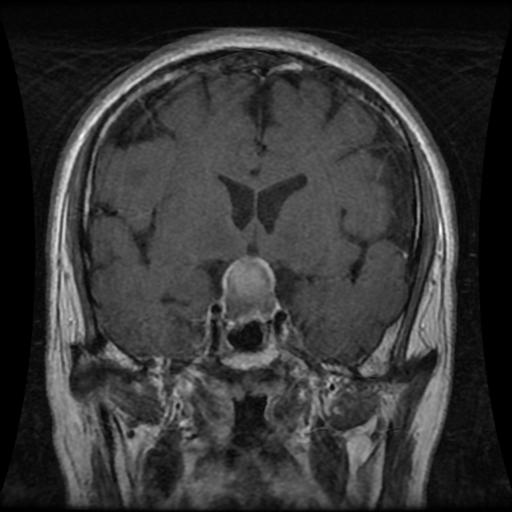Pituirity_tumour: (225, 258, 273, 310)
